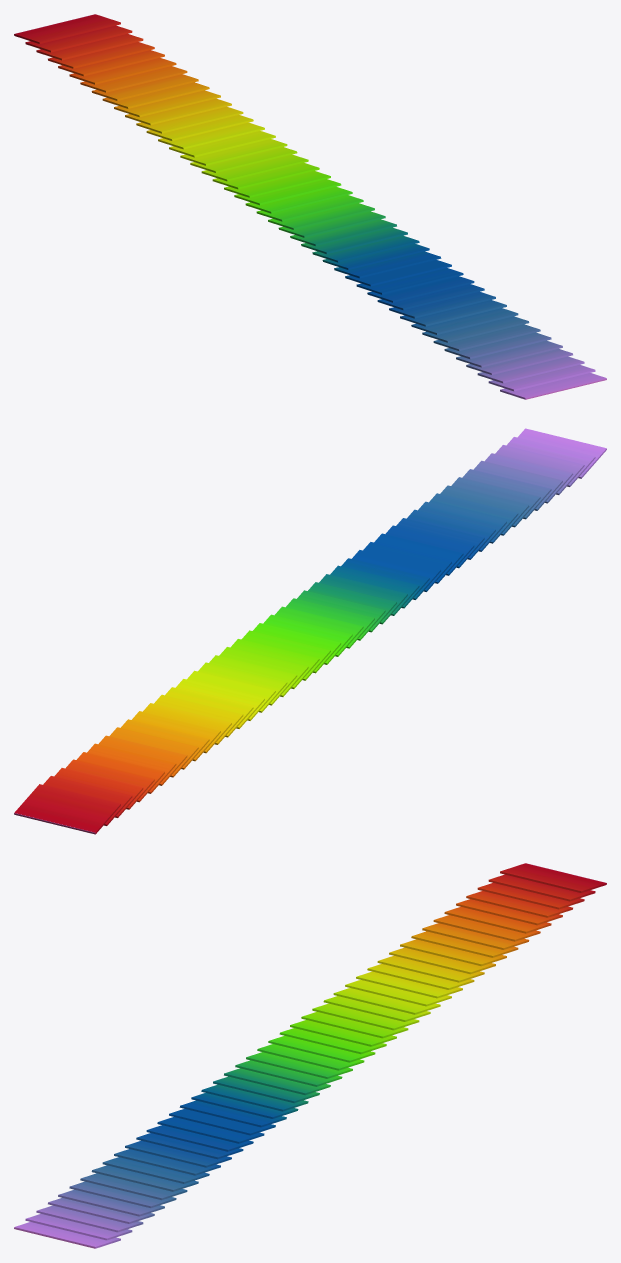
The model's file is Multiplier 1.fbx.
3 views of the same model, one above another, from view 1: azimuth 30°, elevation 25°; view 2: azimuth 150°, elevation 25°; view 3: azimuth 330°, elevation 25° (orthographic).
Parts seen in each view (by area): view 1: pCube32, pCube29, pCube30, pCube25, pCube33, pCube4, pCube18, pCube44, pCube1, pCube15, pCube16, pCube45 (+33 smaller); view 2: pCube32, pCube4, pCube38, pCube15, pCube29, pCube44, pCube49, pCube14, pCube18, pCube24, pCube1, pCube16 (+33 smaller); view 3: pCube32, pCube29, pCube30, pCube25, pCube33, pCube4, pCube18, pCube44, pCube1, pCube15, pCube16, pCube45 (+33 smaller).
Part boxes in pixels (left/top/right/bottom): pCube32: left=14, top=14, right=120, bottom=43; pCube29: left=91, top=74, right=198, bottom=100; pCube30: left=136, top=106, right=243, bottom=133; pCube25: left=158, top=122, right=264, bottom=149; pCube33: left=69, top=58, right=176, bottom=84; pCube4: left=290, top=219, right=396, bottom=246; pCube18: left=224, top=171, right=330, bottom=197; pCube44: left=500, top=373, right=606, bottom=399; pCube1: left=312, top=235, right=419, bottom=262; pCube15: left=245, top=186, right=352, bottom=213; pCube16: left=201, top=154, right=308, bottom=181; pCube45: left=477, top=356, right=584, bottom=383; pCube32: left=14, top=784, right=120, bottom=834; pCube4: left=308, top=582, right=396, bottom=632; pCube38: left=65, top=759, right=154, bottom=809; pCube15: left=263, top=614, right=352, bottom=664; pCube29: left=109, top=727, right=198, bottom=777; pCube44: left=517, top=428, right=606, bottom=478; pCube49: left=473, top=460, right=562, bottom=510; pCube14: left=286, top=598, right=374, bottom=648; pCube18: left=241, top=630, right=330, bottom=680; pCube24: left=198, top=662, right=287, bottom=712; pCube1: left=330, top=565, right=419, bottom=615; pCube16: left=219, top=647, right=308, bottom=696; pCube32: left=500, top=863, right=606, bottom=892; pCube29: left=422, top=923, right=529, bottom=949; pCube30: left=377, top=955, right=484, bottom=982; pCube25: left=356, top=971, right=462, bottom=998; pCube33: left=444, top=907, right=551, bottom=933; pCube4: left=224, top=1068, right=330, bottom=1095; pCube18: left=290, top=1020, right=396, bottom=1046; pCube44: left=14, top=1222, right=120, bottom=1248; pCube1: left=201, top=1084, right=308, bottom=1111; pCube15: left=268, top=1035, right=375, bottom=1062; pCube16: left=312, top=1003, right=419, bottom=1030; pCube45: left=36, top=1205, right=143, bottom=1232.
Size of the model in its own units: 1358 by 193 by 14788.
